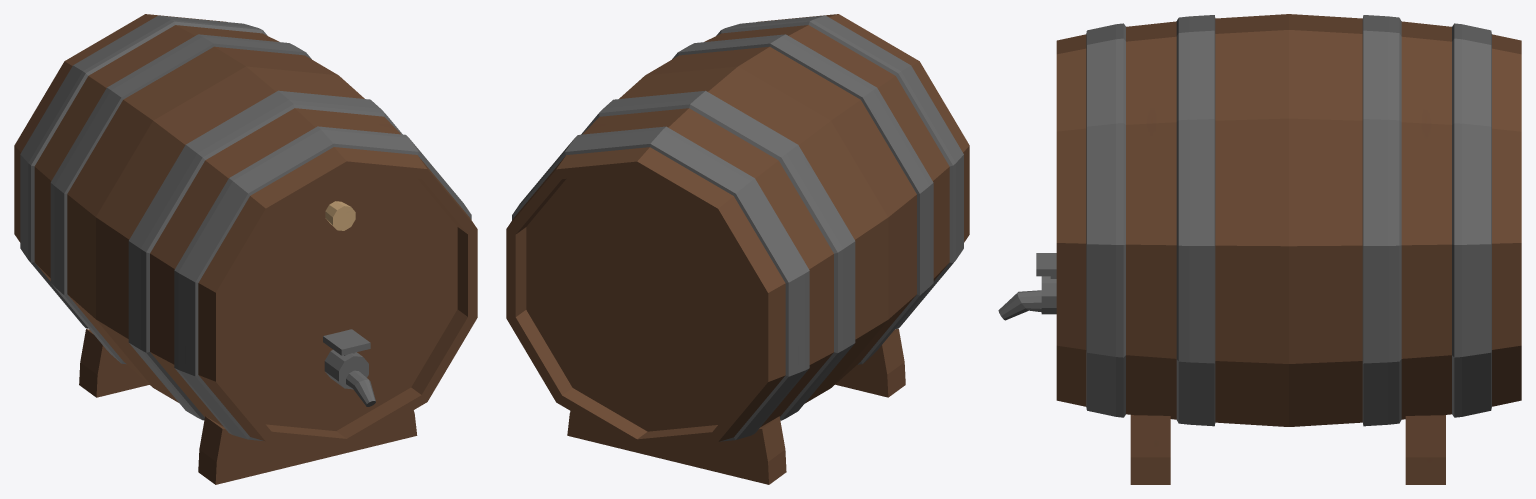
File: Big_Barrel.fbx
3 renders of one model, left to right at view 1: azimuth 30°, elevation 25°; view 2: azimuth 150°, elevation 25°; view 3: azimuth 270°, elevation 25°, orthographic. The views are drawn at different scales.
Visible parts, largest first — view 1: Cylinder.010, Cube.011, Cylinder.011, Cube.012, Cylinder.012; view 2: Cylinder.010, Cube.012, Cube.011; view 3: Cylinder.010, Cube.011, Cube.012, Cylinder.011.
Part boxes in pixels (x1,y1,x2,y2): Cylinder.010: [14, 14, 477, 449]; Cube.011: [198, 410, 417, 484]; Cylinder.011: [323, 329, 375, 406]; Cube.012: [79, 329, 149, 397]; Cylinder.012: [325, 201, 355, 230]; Cylinder.010: [506, 14, 969, 449]; Cube.012: [567, 411, 786, 484]; Cube.011: [835, 329, 905, 397]; Cylinder.010: [1056, 14, 1521, 426]; Cube.011: [1130, 415, 1170, 484]; Cube.012: [1405, 415, 1445, 484]; Cylinder.011: [998, 253, 1056, 320].
Size of the model in its own units: 208 by 227 by 271.
1 material, 1 textured.
